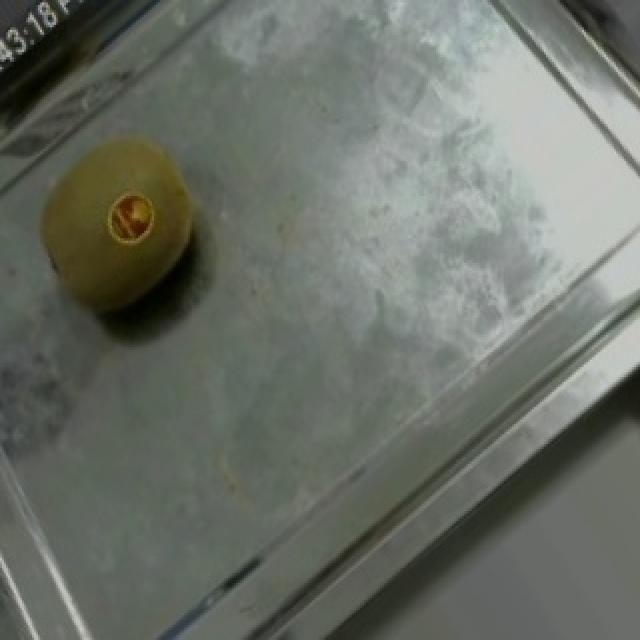Fruit: (0, 97, 238, 357)
